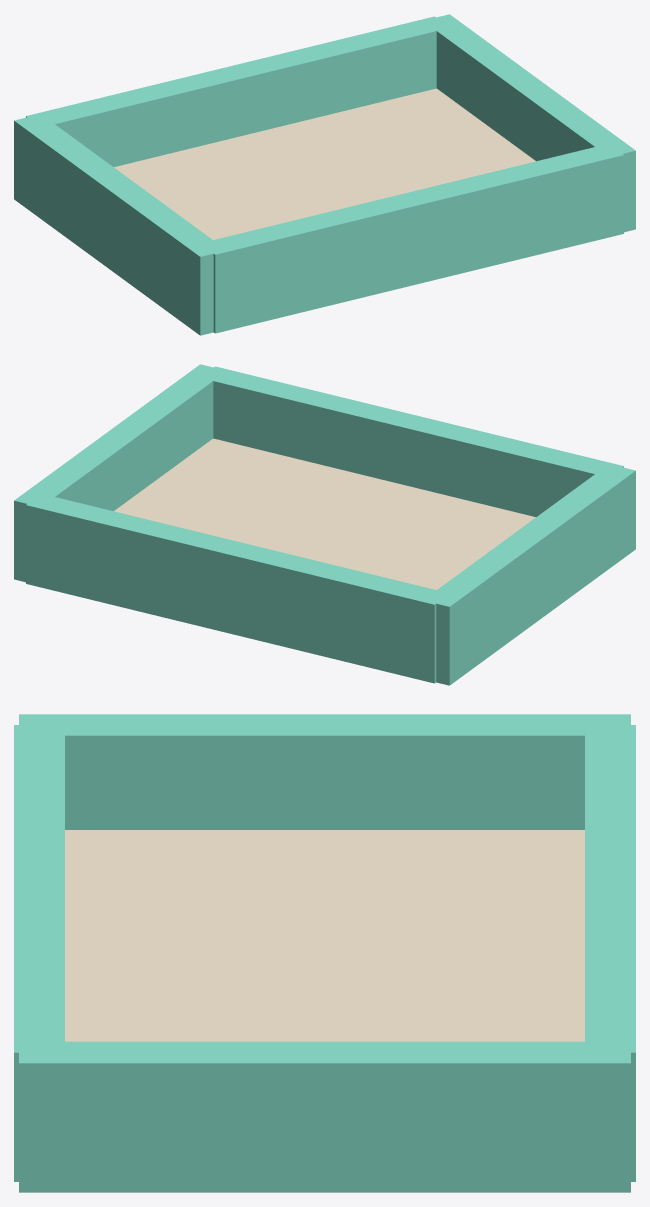
The picture shows the model from 3 angles, top to bottom: view 1: azimuth 30°, elevation 25°; view 2: azimuth 150°, elevation 25°; view 3: azimuth 270°, elevation 25°; orthographic projection. The views are drawn at different scales.
Visible parts, largest first — view 1: End lip, Tray floor, End lip.001, Side lip, Side lip.001; view 2: End lip.001, Tray floor, End lip, Side lip, Side lip.001; view 3: Tray floor, Side lip.001, Side lip, End lip, End lip.001.
Part boxes in pixels (left/top/right/bottom): End lip: left=200, top=143, right=623, bottom=333; Tray floor: left=114, top=88, right=535, bottom=239; End lip.001: left=26, top=16, right=449, bottom=166; Side lip: left=14, top=114, right=225, bottom=335; Side lip.001: left=423, top=14, right=635, bottom=232; End lip.001: left=26, top=493, right=448, bottom=683; Tray floor: left=114, top=438, right=535, bottom=589; End lip: left=200, top=366, right=623, bottom=516; Side lip: left=424, top=464, right=635, bottom=685; Side lip.001: left=14, top=364, right=226, bottom=582; Tray floor: left=65, top=830, right=584, bottom=1041; Side lip.001: left=19, top=1041, right=630, bottom=1192; Side lip: left=19, top=714, right=630, bottom=829; End lip: left=14, top=725, right=64, bottom=1181; End lip.001: left=585, top=725, right=635, bottom=1181.
Size of the model in its own units: 0.405 by 0.075 by 0.305.
Materials: 1 (1 with a texture image).
